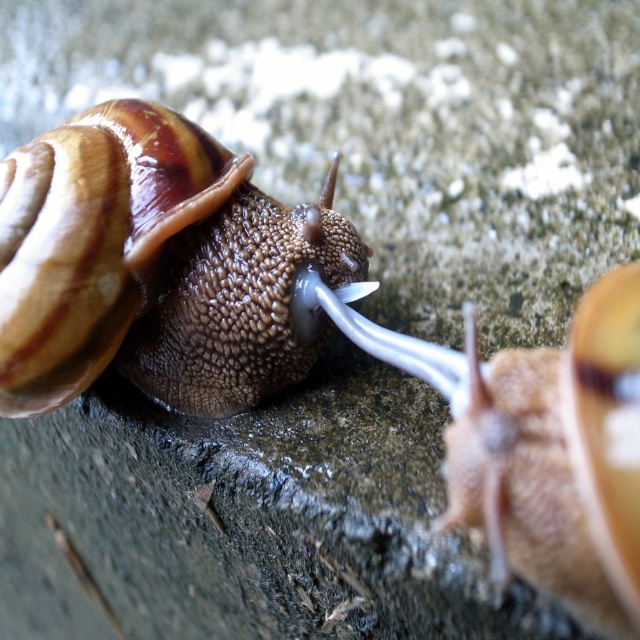Snail: (0, 94, 479, 416), (430, 258, 640, 639)
